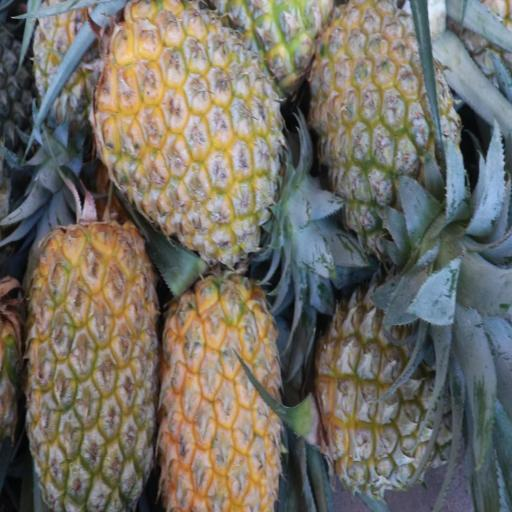------------------------------: (310, 6, 451, 243), (316, 278, 450, 488), (31, 0, 107, 125)
Pineapple - v8 v1: (98, 0, 279, 265), (28, 224, 154, 502), (162, 280, 282, 509)
